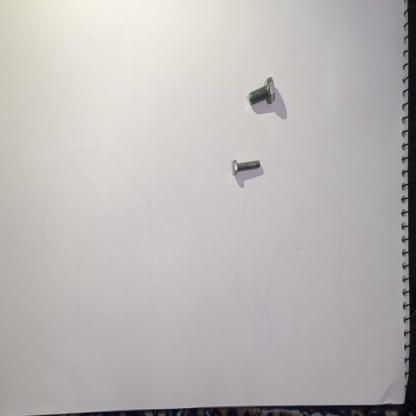Bolts: (246, 74, 277, 117), (229, 151, 264, 175)
